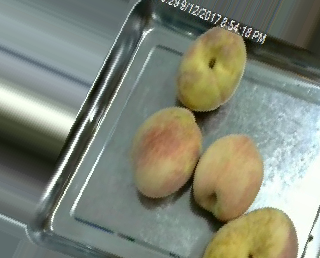Peach: (131, 106, 201, 198), (171, 25, 246, 110), (192, 135, 263, 219), (203, 208, 297, 255)
